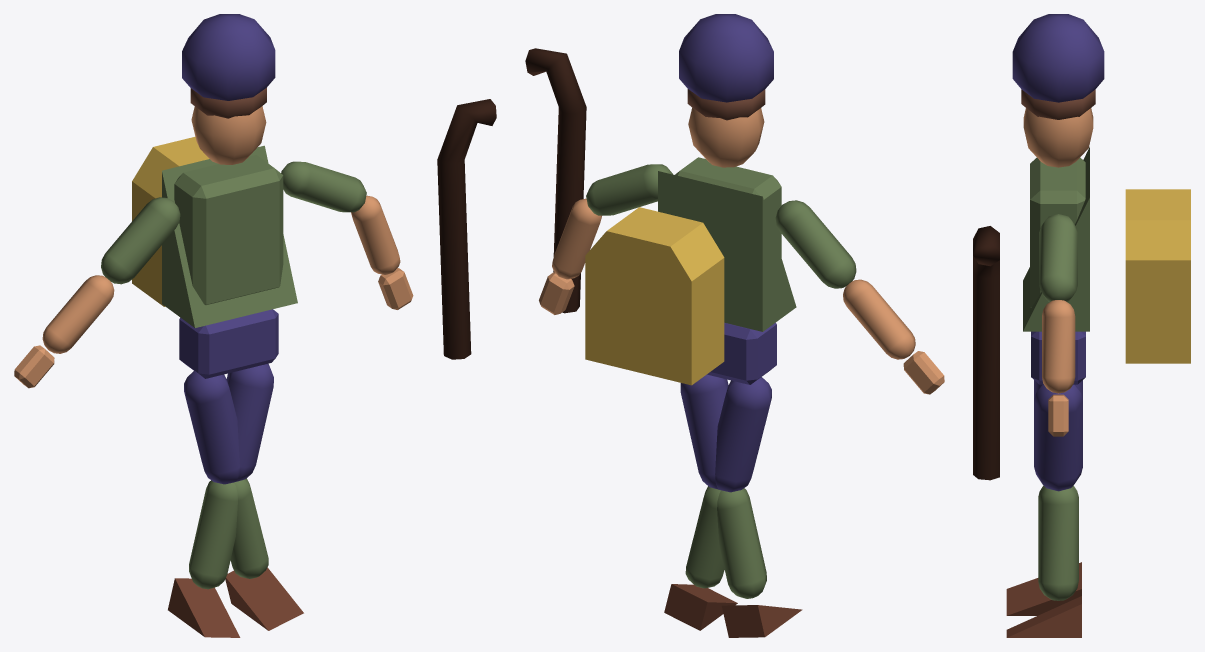
Rendered from adventurer.rustic.glb.
3 views of the same model, side by side, from view 1: azimuth 30°, elevation 25°; view 2: azimuth 150°, elevation 25°; view 3: azimuth 270°, elevation 25° (orthographic).
Visible parts, largest first — view 1: torso, accessory.main-hand, accessory.head, tunic, pelvis, thigh.left, shin.right, upper-arm.left, accessory.back, thigh.right, head, upper-arm.right (+8 smaller); view 2: accessory.back, tunic, accessory.head, accessory.main-hand, thigh.left, shin.right, upper-arm.left, thigh.right, head, forearm.left, pelvis, upper-arm.right (+8 smaller); view 3: accessory.back, accessory.main-hand, accessory.head, shin.left, thigh.right, torso, upper-arm.right, head, forearm.right, tunic, foot.left, foot.right (+3 smaller).
Boxes of the visible parts, <box> form: torso: <box>174,155,283,304</box>; accessory.main-hand: <box>437,99,496,359</box>; accessory.head: <box>182,14,275,100</box>; tunic: <box>162,145,297,327</box>; pelvis: <box>179,309,278,378</box>; thigh.left: <box>184,371,239,484</box>; shin.right: <box>189,480,237,589</box>; upper-arm.left: <box>101,197,180,284</box>; accessory.back: <box>132,137,209,306</box>; thigh.right: <box>226,364,273,481</box>; head: <box>191,106,266,164</box>; upper-arm.right: <box>281,161,366,212</box>; accessory.back: <box>585,207,724,385</box>; tunic: <box>658,171,796,331</box>; accessory.head: <box>679,14,773,102</box>; accessory.main-hand: <box>525,48,586,313</box>; thigh.left: <box>715,377,771,492</box>; shin.right: <box>717,488,766,598</box>; upper-arm.left: <box>775,200,856,288</box>; thigh.right: <box>680,374,728,489</box>; head: <box>688,107,764,167</box>; forearm.left: <box>843,279,915,359</box>; pelvis: <box>707,322,776,384</box>; upper-arm.right: <box>586,164,672,215</box>; accessory.back: <box>1125,189,1190,363</box>; accessory.main-hand: <box>973,226,999,480</box>; accessory.head: <box>1012,14,1104,102</box>; shin.left: <box>1038,486,1078,600</box>; thigh.right: <box>1034,384,1082,491</box>; torso: <box>1030,157,1085,307</box>; upper-arm.right: <box>1039,214,1077,301</box>; head: <box>1023,108,1093,167</box>; forearm.right: <box>1042,300,1075,393</box>; tunic: <box>1023,147,1089,331</box>; foot.left: <box>1006,596,1081,637</box>; foot.right: <box>1006,562,1081,615</box>.
Bounding box in the file's own units: 2.52 × 3.28 × 1.07.
